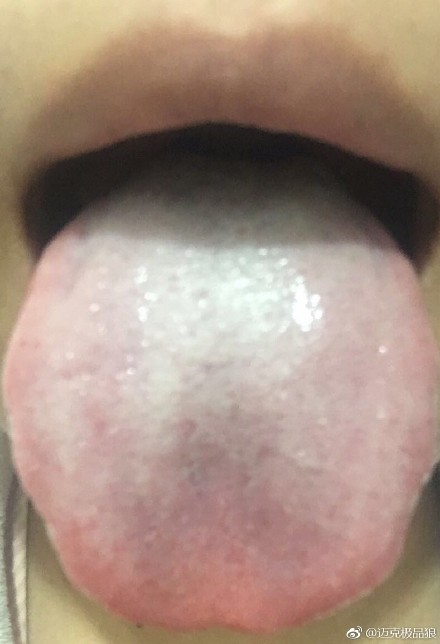baitaishe: (3, 150, 438, 633)
